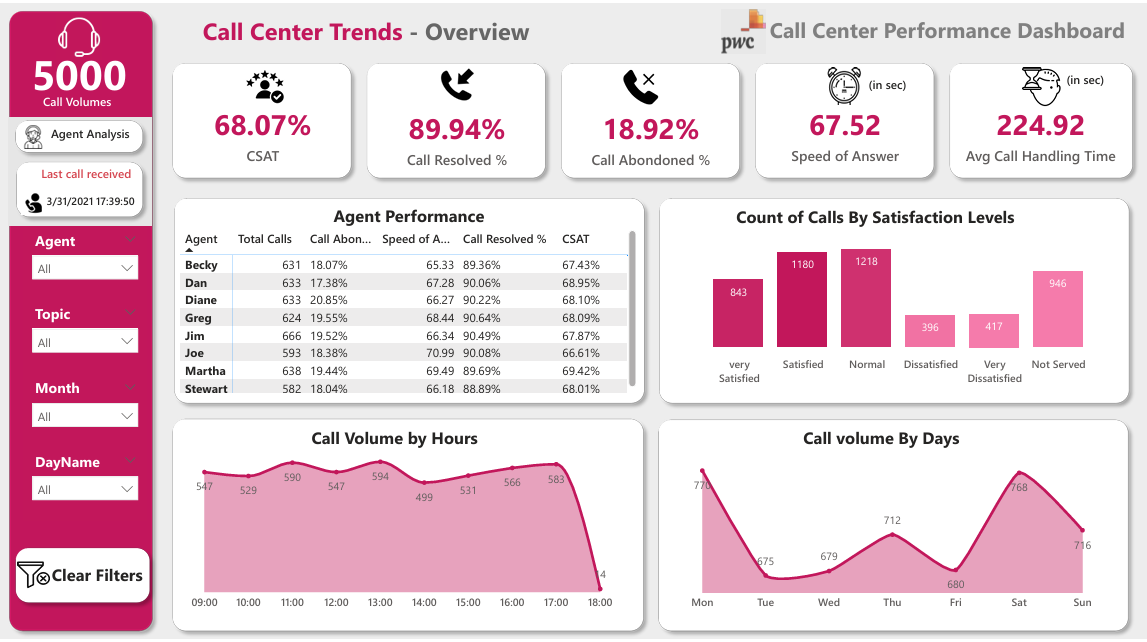

What the dashboard file says about the page in this screenshot:
{"tool":"powerbi","page":{"name":"Page 1","canvas":[1320,720],"ordinal":0},"visuals":[{"type":"shape","box":[15,0,180,720],"z":0},{"type":"shape","box":[22.8,128.6,162.8,123.8],"z":1000},{"type":"shape","box":[639.9,58.6,219.8,148.2],"z":2000},{"type":"shape","box":[21.9,124,162.1,53.6],"z":3000},{"type":"shape","box":[859.7,58.6,219.8,148.2],"z":4000},{"type":"shape","box":[1079.6,58.6,225,148.2],"z":5000},{"type":"shape","box":[420.1,58.6,219.8,148.2],"z":6000},{"type":"shape","box":[22.8,171,161.2,79.8],"z":7000},{"type":"textbox","box":[65.9,134.2,115.6,35.8],"z":8000},{"type":"actionButton","box":[37,138,27.9,27.1],"z":9000},{"type":"textbox","box":[54.6,178.9,115.7,34.5],"z":10000},{"type":"actionButton","box":[37.7,213,27.1,27.1],"z":11000},{"type":"shape","box":[21.7,608.3,170,80],"z":12000},{"type":"textbox","box":[66.7,630,123.3,41.7],"z":13000},{"type":"actionButton","box":[33.3,630,36.7,35],"z":14000},{"type":"shape","box":[200.3,58.6,219.8,148.2],"z":15000},{"type":"textbox","box":[238.1,8.3,429.7,50],"z":16000},{"type":"shape","box":[201.7,211.7,550,250],"z":17000},{"type":"shape","box":[750.7,211.7,550.4,250],"z":18000},{"type":"shape","box":[200.3,462.4,550.4,257.3],"z":19000},{"type":"shape","box":[750,462.5,550,257.5],"z":20000},{"type":"card","fields":{"Values":["Measure Table.Total Calls"]},"box":[29.3,47.2,148.2,65.1],"z":21000},{"type":"actionButton","box":[291.5,71.6,45,45],"z":22000},{"type":"actionButton","box":[511.3,71.6,40.7,40.7],"z":23000},{"type":"actionButton","box":[715.8,71.6,46.1,46.1],"z":24000},{"type":"actionButton","box":[949.6,73.2,39.8,41.4],"z":25000},{"type":"actionButton","box":[1170.7,73.2,44.5,44.5],"z":26000},{"type":"card","fields":{"Values":["Measure Table.CSAT"]},"box":[219.8,89.6,182.4,117.2],"z":27000},{"type":"pivotTable","fields":{"Rows":["01 Call-Center-Dataset.agent"],"Values":["Measure Table.Total Calls","Measure Table.Call Abondoned %","Measure Table.Speed of Answer","Measure Table.Call Resolved %","Measure Table.CSAT"]},"box":[213.3,252.4,525.9,193.8],"z":28000},{"type":"lineChart","fields":{"Y":["Measure Table.Total Calls"],"Category":["01 Call-Center-Dataset.hour"]},"box":[219.8,503.1,498.3,193.8],"z":29000},{"type":"lineChart","fields":{"Y":["Measure Table.Total Calls"],"Category":["01 Call-Center-Dataset.DayName"]},"box":[775.1,503.1,498.3,193.8],"z":30000},{"type":"clusteredColumnChart","fields":{"Category":["01 Call-Center-Dataset.Satisfaction Levels"],"Y":["Measure Table.Total Calls"]},"box":[776.7,241,498.3,200.3],"z":31000},{"type":"actionButton","box":[77.4,13,52,52],"z":32000},{"type":"textbox","box":[57,97.7,114,32.6],"z":33000},{"type":"card","fields":{"Values":["Measure Table.Call Resolved %"]},"box":[439.6,94.4,182.4,117.2],"z":34000},{"type":"card","fields":{"Values":["Measure Table.Call Abondoned %"]},"box":[659.5,94.4,182.4,117.2],"z":35000},{"type":"card","fields":{"Values":["Measure Table.Speed of Answer"]},"box":[879.3,89.6,182.4,117.2],"z":36000},{"type":"slicer","title":"Agent","fields":{"Values":["01 Call-Center-Dataset.agent"]},"box":[40,253.3,140,83.3],"z":36000,"group":"g1"},{"type":"card","fields":{"Values":["Avg(Measure Table.Avg Call Handling Time)"]},"box":[1100.7,89.6,182.4,117.2],"z":37000},{"type":"slicer","title":"Topic","fields":{"Values":["01 Call-Center-Dataset.topic"]},"box":[40,336.6,140,83.3],"z":37000,"group":"g1"},{"type":"textbox","box":[991.6,78.2,70,34.2],"z":38000},{"type":"slicer","title":"Month","fields":{"Values":["01 Call-Center-Dataset.Month"]},"box":[40,420,140,83.3],"z":38000,"group":"g1"},{"type":"textbox","box":[1216.3,71.6,71.6,39.1],"z":39000},{"type":"slicer","title":"Day Name","fields":{"Values":["01 Call-Center-Dataset.DayName"]},"box":[40,503.3,140,83.3],"z":39000,"group":"g1"},{"type":"textbox","box":[385.9,223.1,206.8,35.8],"z":40000},{"type":"textbox","box":[842,224,350,38],"z":41000},{"type":"textbox","box":[361.5,473.8,211.7,40.7],"z":42000},{"type":"textbox","box":[918.4,473.8,211.7,39.1],"z":43000},{"type":"card","fields":{"Values":["Measure Table.Last Call"]},"box":[59.5,205.8,112.3,40.8],"z":44000},{"type":"group","id":"g1","title":"Group 1","box":[40,253.3,140,333.3],"z":45000},{"type":"textbox","box":[880,8.6,440,48.6],"z":46000},{"type":"actionButton","box":[830,7.1,50,50],"z":47000}]}

Visuals, with their boxes in screenshot pixels (x1, y1, x2, y2), scaled from the page's 1320x720 canvas onto the 1147x642 screenshot:
shape: l=13, t=0, r=169, b=641
shape: l=20, t=115, r=161, b=225
shape: l=556, t=52, r=747, b=184
shape: l=19, t=111, r=160, b=158
shape: l=747, t=52, r=938, b=184
shape: l=938, t=52, r=1134, b=184
shape: l=365, t=52, r=556, b=184
shape: l=20, t=152, r=160, b=224
textbox: l=57, t=120, r=158, b=152
actionButton: l=32, t=123, r=56, b=147
textbox: l=47, t=160, r=148, b=190
actionButton: l=33, t=190, r=56, b=214
shape: l=19, t=542, r=167, b=614
textbox: l=58, t=562, r=165, b=599
actionButton: l=29, t=562, r=61, b=593
shape: l=174, t=52, r=365, b=184
textbox: l=207, t=7, r=580, b=52
shape: l=175, t=189, r=653, b=412
shape: l=652, t=189, r=1131, b=412
shape: l=174, t=412, r=652, b=641
shape: l=652, t=412, r=1130, b=641
card - Measure Table.Total Calls: l=25, t=42, r=154, b=100
actionButton: l=253, t=64, r=292, b=104
actionButton: l=444, t=64, r=480, b=100
actionButton: l=622, t=64, r=662, b=105
actionButton: l=825, t=65, r=860, b=102
actionButton: l=1017, t=65, r=1056, b=105
card - Measure Table.CSAT: l=191, t=80, r=349, b=184
pivotTable - 01 Call-Center-Dataset.agent x Measure Table.Total Calls: l=185, t=225, r=642, b=398
lineChart - Measure Table.Total Calls x 01 Call-Center-Dataset.hour: l=191, t=449, r=624, b=621
lineChart - Measure Table.Total Calls x 01 Call-Center-Dataset.DayName: l=674, t=449, r=1107, b=621
clusteredColumnChart - 01 Call-Center-Dataset.Satisfaction Levels x Measure Table.Total Calls: l=675, t=215, r=1108, b=393
actionButton: l=67, t=12, r=112, b=58
textbox: l=50, t=87, r=149, b=116
card - Measure Table.Call Resolved %: l=382, t=84, r=540, b=189
card - Measure Table.Call Abondoned %: l=573, t=84, r=732, b=189
card - Measure Table.Speed of Answer: l=764, t=80, r=923, b=184
"Agent" slicer: l=35, t=226, r=156, b=300
card - Avg(Measure Table.Avg Call Handling Time): l=956, t=80, r=1115, b=184
"Topic" slicer: l=35, t=300, r=156, b=374
textbox: l=862, t=70, r=922, b=100
"Month" slicer: l=35, t=374, r=156, b=449
textbox: l=1057, t=64, r=1119, b=99
"Day Name" slicer: l=35, t=449, r=156, b=523
textbox: l=335, t=199, r=515, b=231
textbox: l=732, t=200, r=1036, b=234
textbox: l=314, t=422, r=498, b=459
textbox: l=798, t=422, r=982, b=457
card - Measure Table.Last Call: l=52, t=184, r=149, b=220
"Group 1" group: l=35, t=226, r=156, b=523
textbox: l=765, t=8, r=1146, b=51
actionButton: l=721, t=6, r=765, b=51
